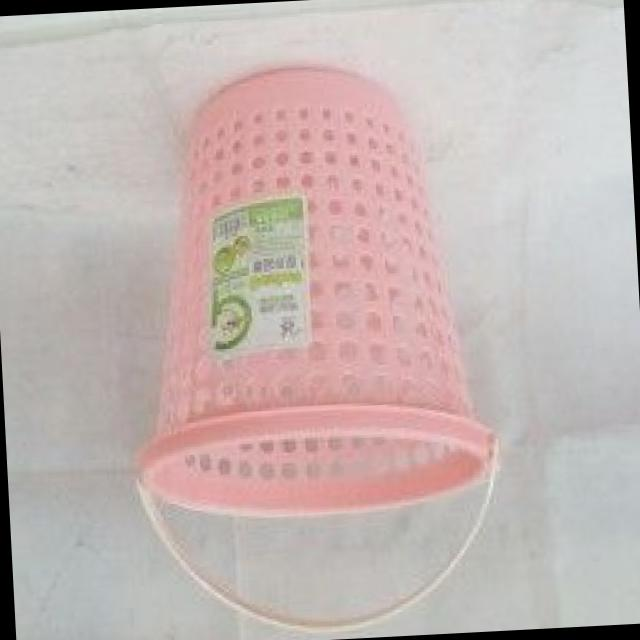dustbin: (118, 52, 510, 526)
